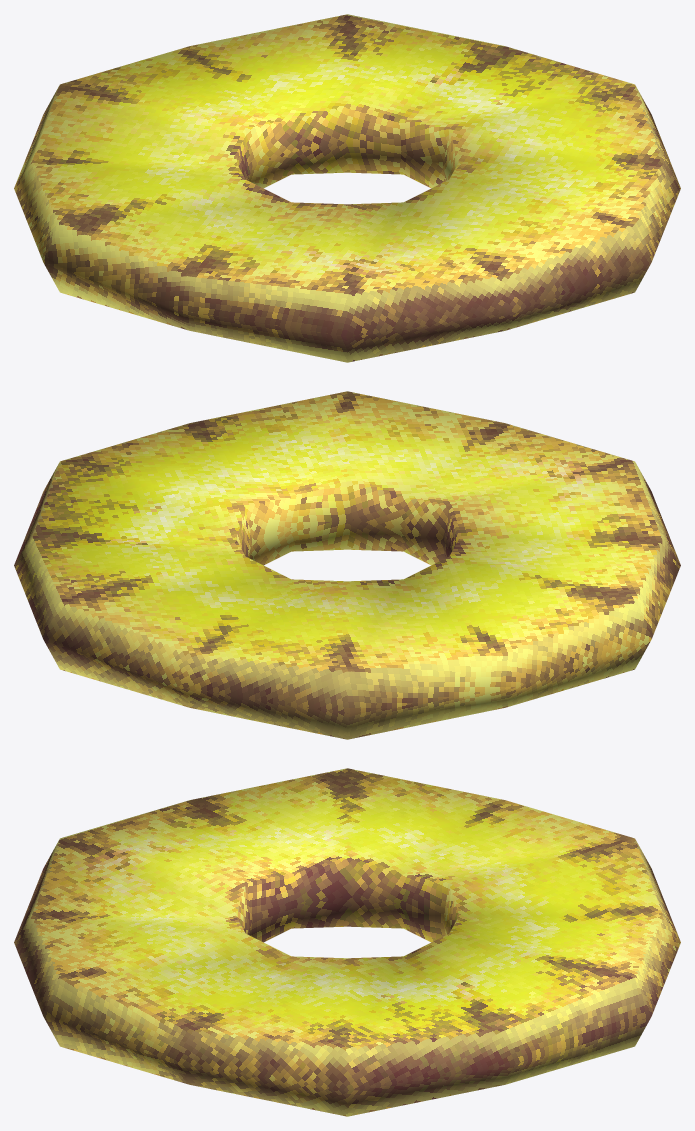
The model's file is ananas.glb.
3 views of the same model, one above another, from view 1: azimuth 30°, elevation 25°; view 2: azimuth 150°, elevation 25°; view 3: azimuth 270°, elevation 25° (orthographic).
Visible parts, largest first — view 1: Circle.001; view 2: Circle.001; view 3: Circle.001.
Part boxes in pixels (x1,y1,x2,y2): Circle.001: (14,14,680,362); Circle.001: (14,391,680,739); Circle.001: (14,768,680,1116).
Size of what is drawn, in the model's own units: 2.01 by 0.2143 by 1.91.
1 material, 1 textured.
